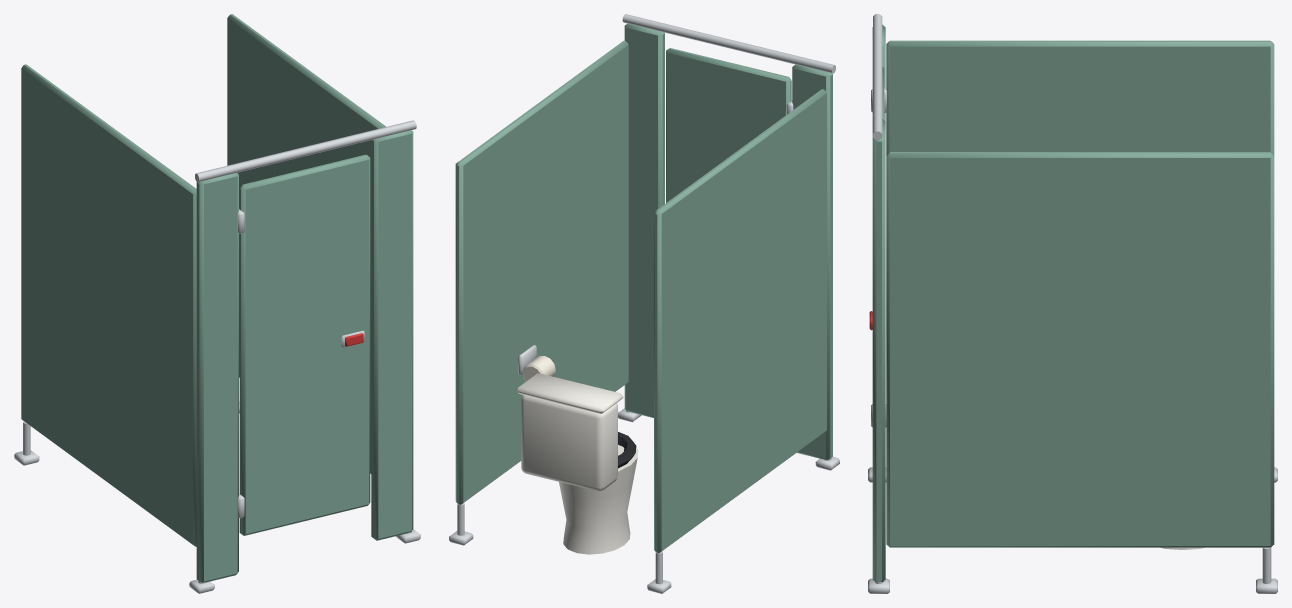
Rendered from Shop_RestroomStall.fbx.
The picture shows the model from 3 angles, left to right: view 1: azimuth 30°, elevation 25°; view 2: azimuth 150°, elevation 25°; view 3: azimuth 270°, elevation 25°; orthographic projection. The views are drawn at different scales.
Parts seen in each view (by area): view 1: Partitions, Door, Hardware; view 2: Partitions, Porcelain, Door, Hardware, Paper; view 3: Partitions, Hardware.
Part boxes in pixels (left/top/right/bottom): Partitions: left=21, top=14, right=413, bottom=582; Door: left=239, top=154, right=370, bottom=535; Hardware: left=14, top=120, right=420, bottom=593; Partitions: left=455, top=23, right=832, bottom=553; Porcelain: left=516, top=373, right=638, bottom=554; Door: left=666, top=48, right=791, bottom=202; Hardware: left=449, top=14, right=839, bottom=593; Paper: left=522, top=356, right=555, bottom=381; Partitions: left=872, top=24, right=1274, bottom=581; Hardware: left=868, top=14, right=1277, bottom=593.
Bounding box in the file's own units: 390 × 696 × 560.
